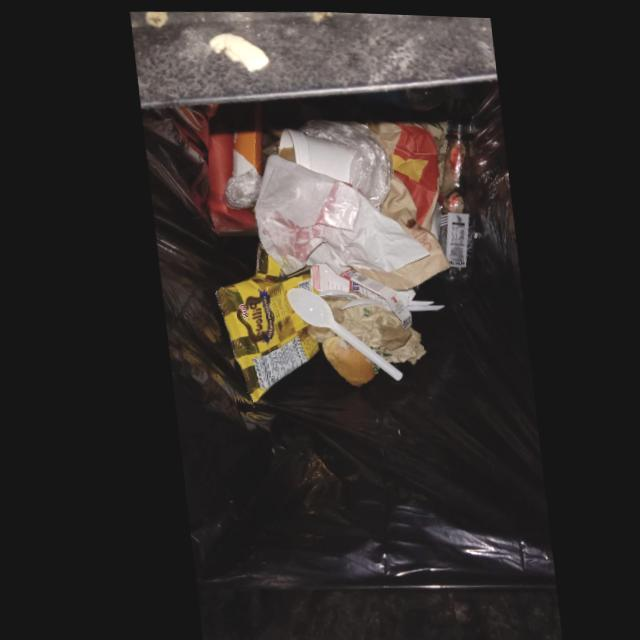cardboard: (305, 262, 440, 328), (204, 131, 251, 230), (228, 129, 259, 175)
food_wrapper: (209, 246, 329, 399)
left_over_food: (313, 327, 370, 383)
paper: (249, 152, 424, 272), (348, 118, 445, 288)
plastic_bag: (299, 119, 389, 203), (220, 165, 257, 205)
